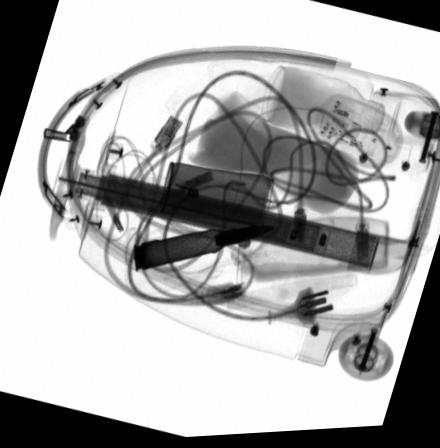Bullet: (132, 226, 278, 272)
